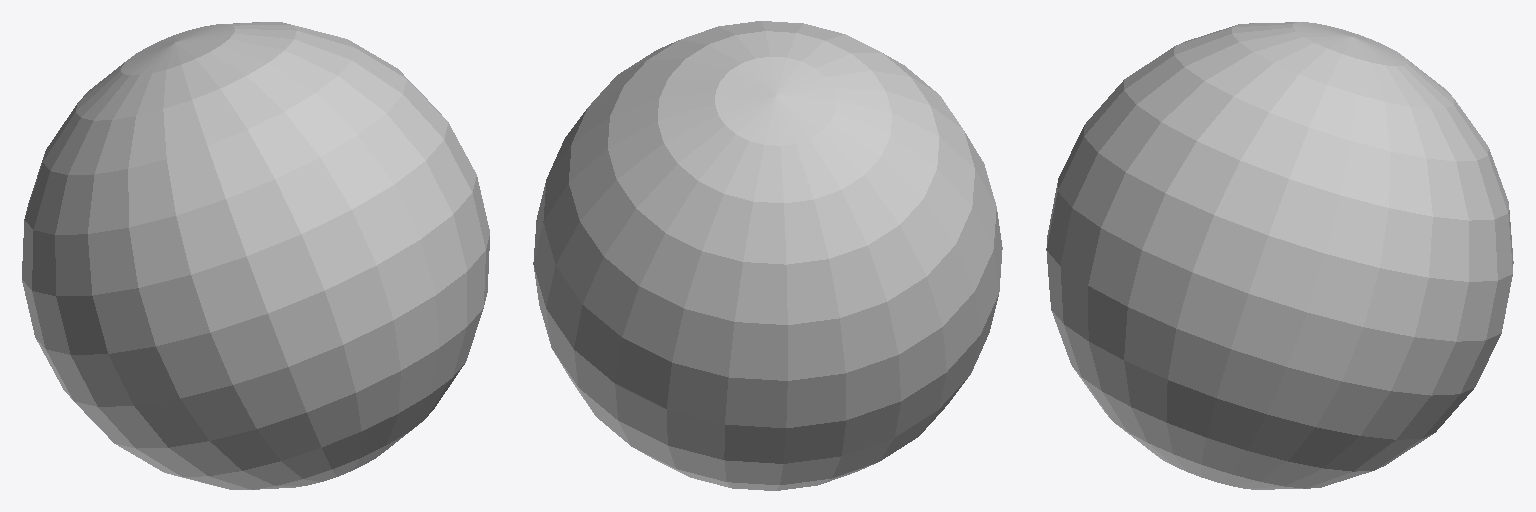
Rendered from studio_light_bulb_333.obj.
3 renders of one model, left to right at view 1: azimuth 30°, elevation 25°; view 2: azimuth 150°, elevation 25°; view 3: azimuth 270°, elevation 25°, orthographic.
Visible parts, largest first — view 1: Object001; view 2: Object001; view 3: Object001.
Part boxes in pixels (left/top/right/bottom): Object001: left=22, top=22, right=489, bottom=489; Object001: left=533, top=21, right=1002, bottom=490; Object001: left=1046, top=22, right=1513, bottom=489.
Size of the model in its own units: 20.96 by 20.83 by 20.83.